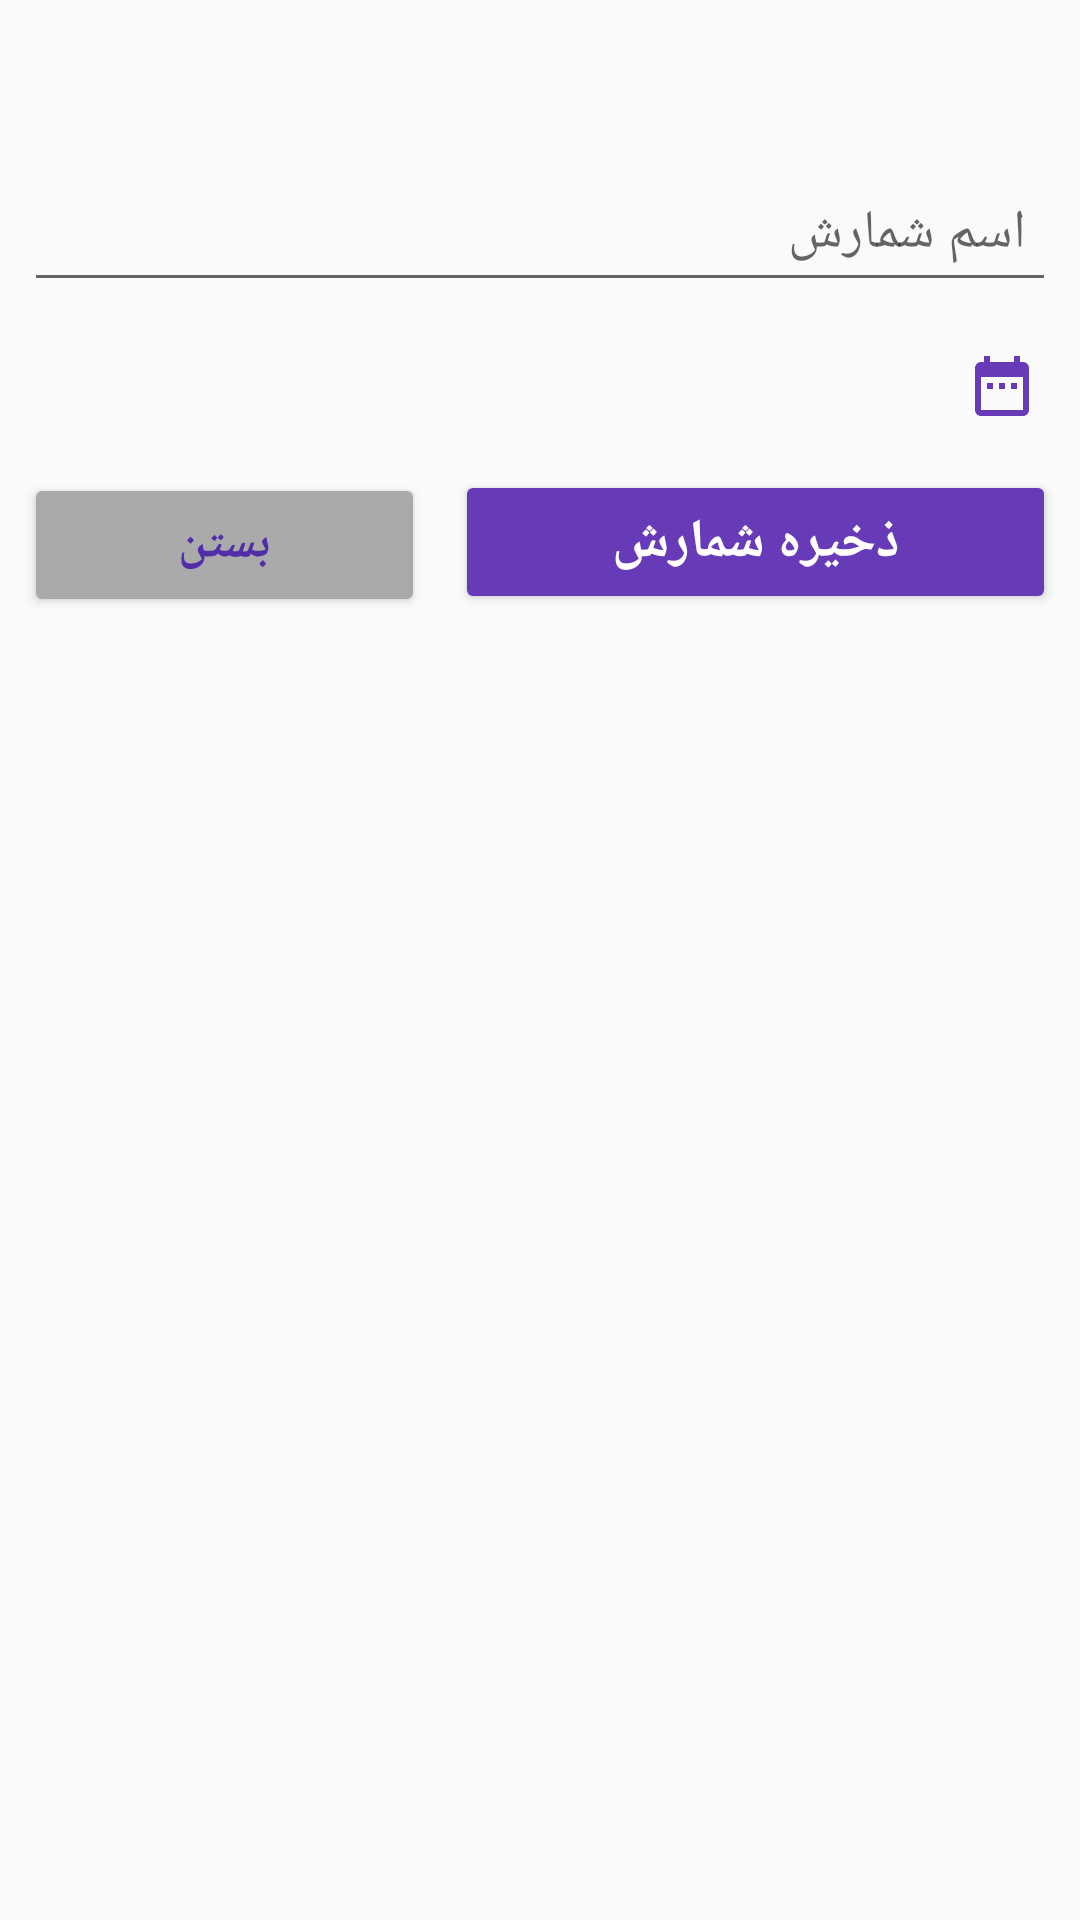

Where icons sit on this 1080 x 1920 app screen, as (x1, y1, x2, y2):
date: (975, 356, 1029, 416)
